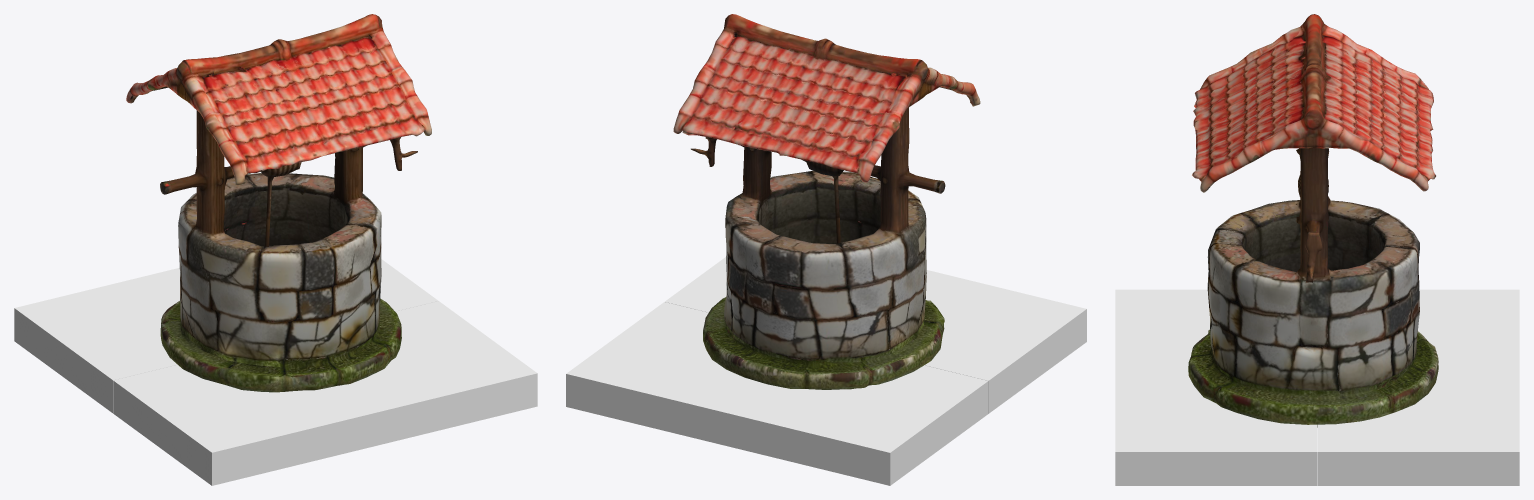
File: well.glb
3 views of the same model, side by side, from view 1: azimuth 30°, elevation 25°; view 2: azimuth 150°, elevation 25°; view 3: azimuth 270°, elevation 25° (orthographic). The views are drawn at different scales.
Visible parts, largest first — view 1: well; view 2: well; view 3: well.
Boxes of the visible parts, x1,y1,x2,y2 form: well: [14, 14, 537, 485]; well: [566, 14, 1086, 485]; well: [1115, 14, 1519, 485].
Size of the model in its own units: 0.5512 by 0.5454 by 0.5795.
Materials: 5 (1 with a texture image).
